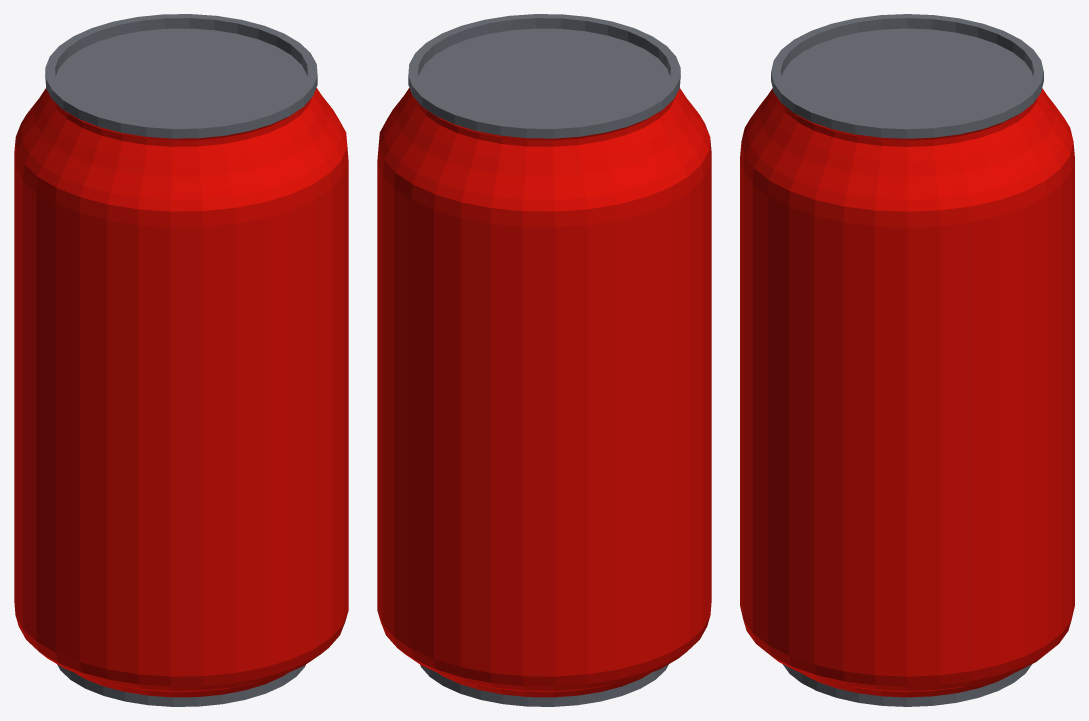
Rendered from Can.fbx.
3 views of the same model, side by side, from view 1: azimuth 30°, elevation 25°; view 2: azimuth 150°, elevation 25°; view 3: azimuth 270°, elevation 25° (orthographic).
Visible parts, largest first — view 1: Cylinder; view 2: Cylinder; view 3: Cylinder.
Part boxes in pixels (bbox=[...]): Cylinder: bbox=[14, 14, 348, 706]; Cylinder: bbox=[377, 14, 711, 706]; Cylinder: bbox=[740, 14, 1074, 706].
Size of the model in its own units: 196 by 375 by 196.
